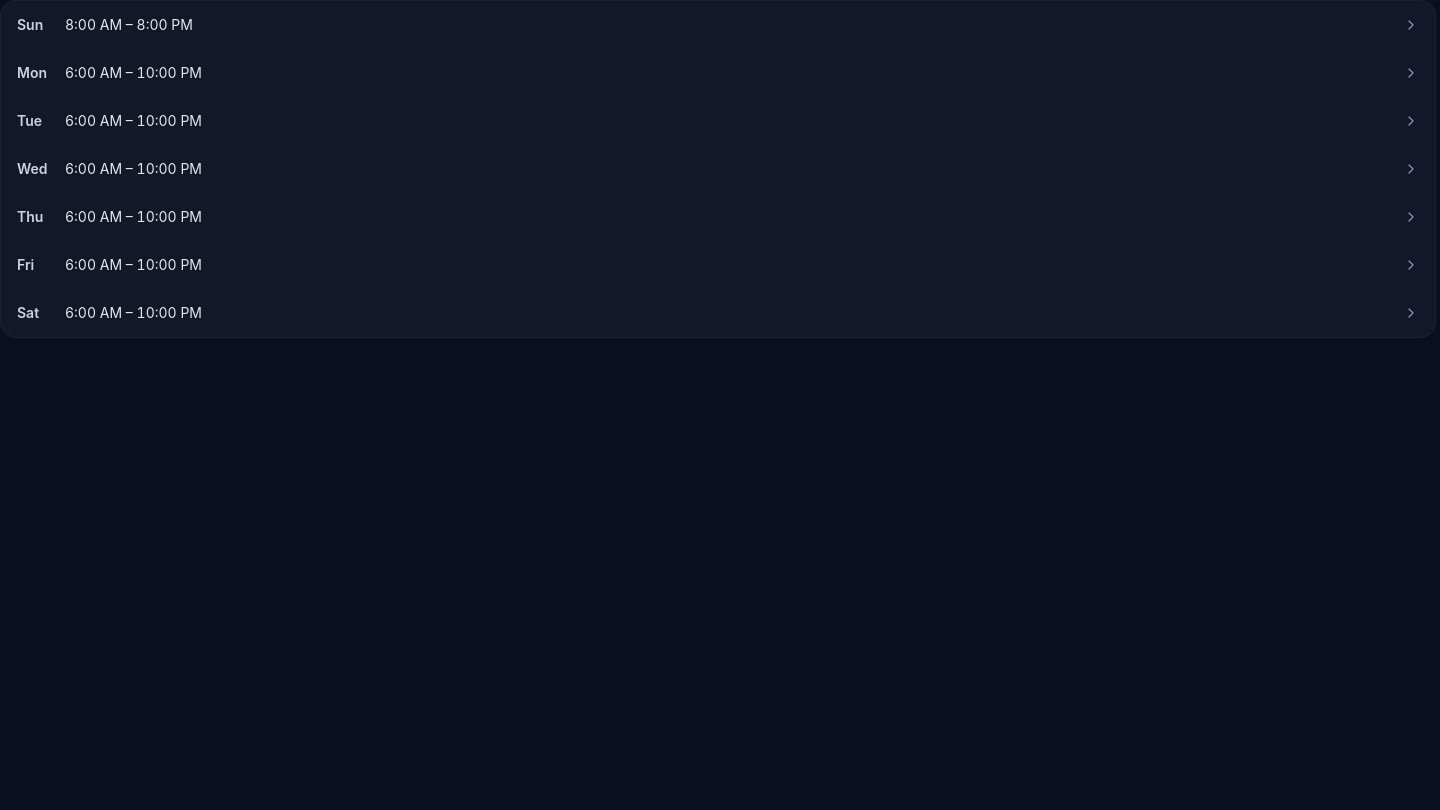
Test: StoreHoursSection › tapping a row opens the bottom sheet
This screenshot has width=1440, height=810.
Click the button with test id "day-row-0".
click(32, 36)  # box [1,1,1435,49]
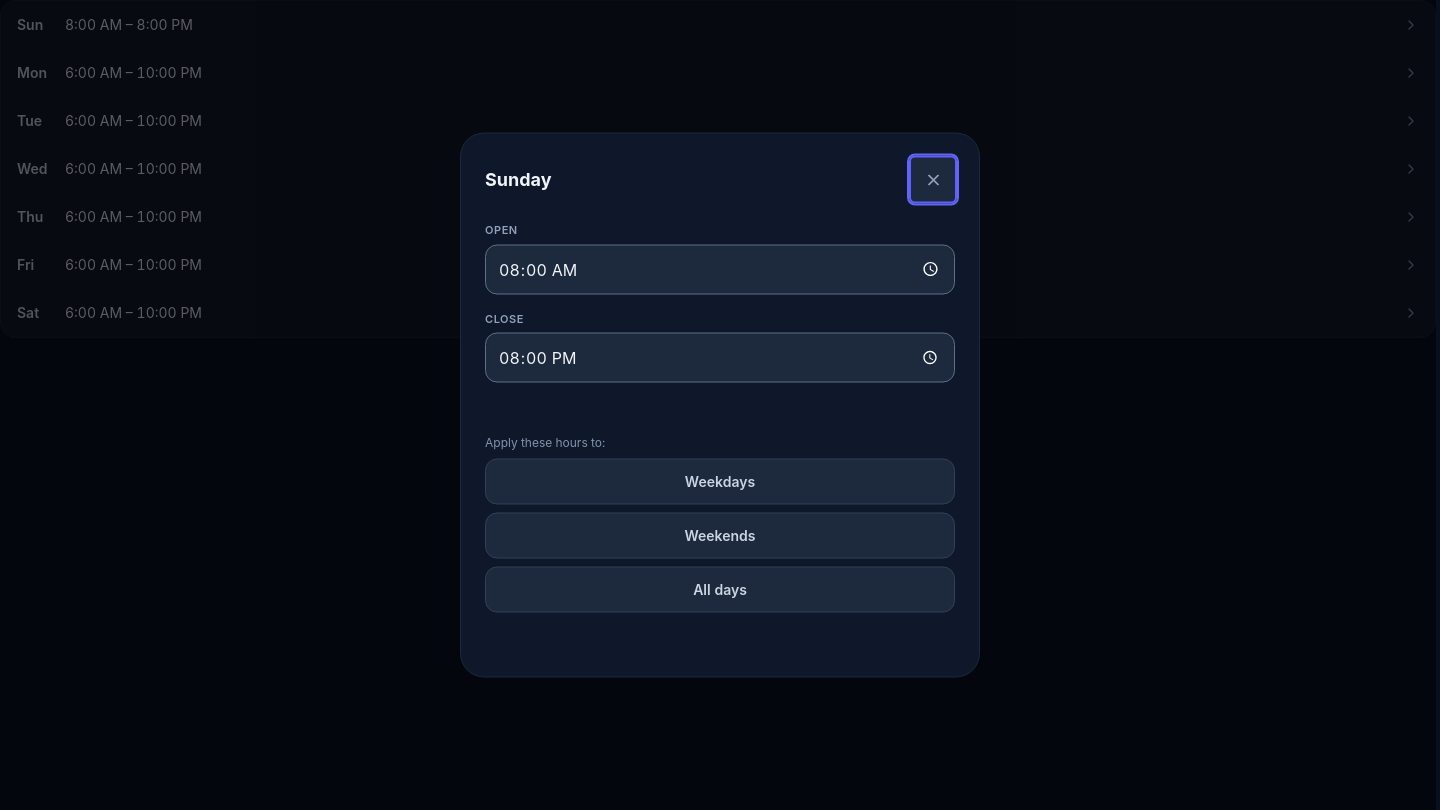
Result: the dialog with test id "store-hours-sheet" is shown at [460,132,980,678]
